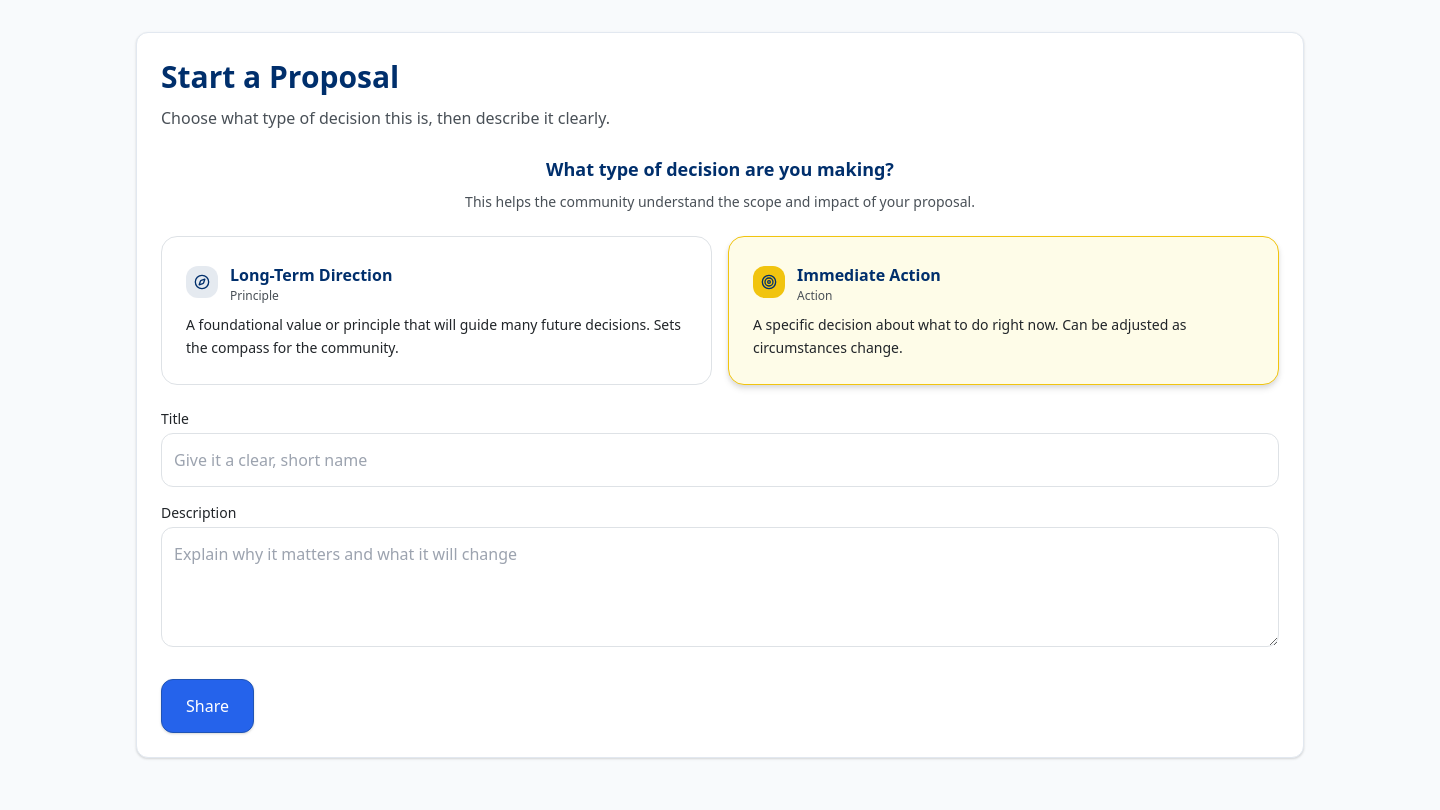
it: ProposalNew › enforces direction choice for Level A proposals
// Fill in title and description
Type "Test Proposal" into the field with placeholder "Give it a clear, short name" at (720, 460), box left=161, top=433, right=1279, bottom=487
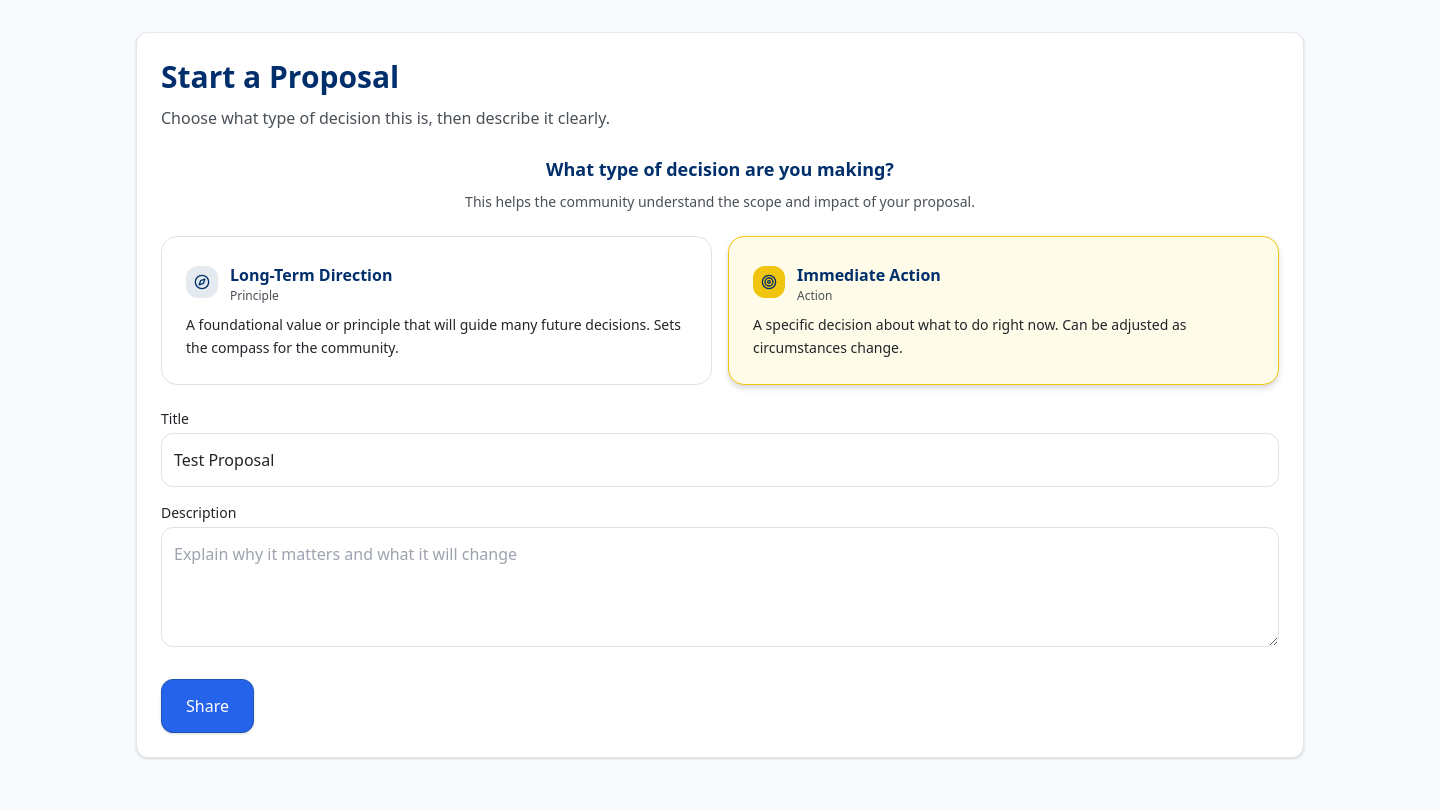
Type "Test description" into the text box with placeholder "Explain why it matters and what it will change" at (720, 588), box left=161, top=528, right=1279, bottom=648
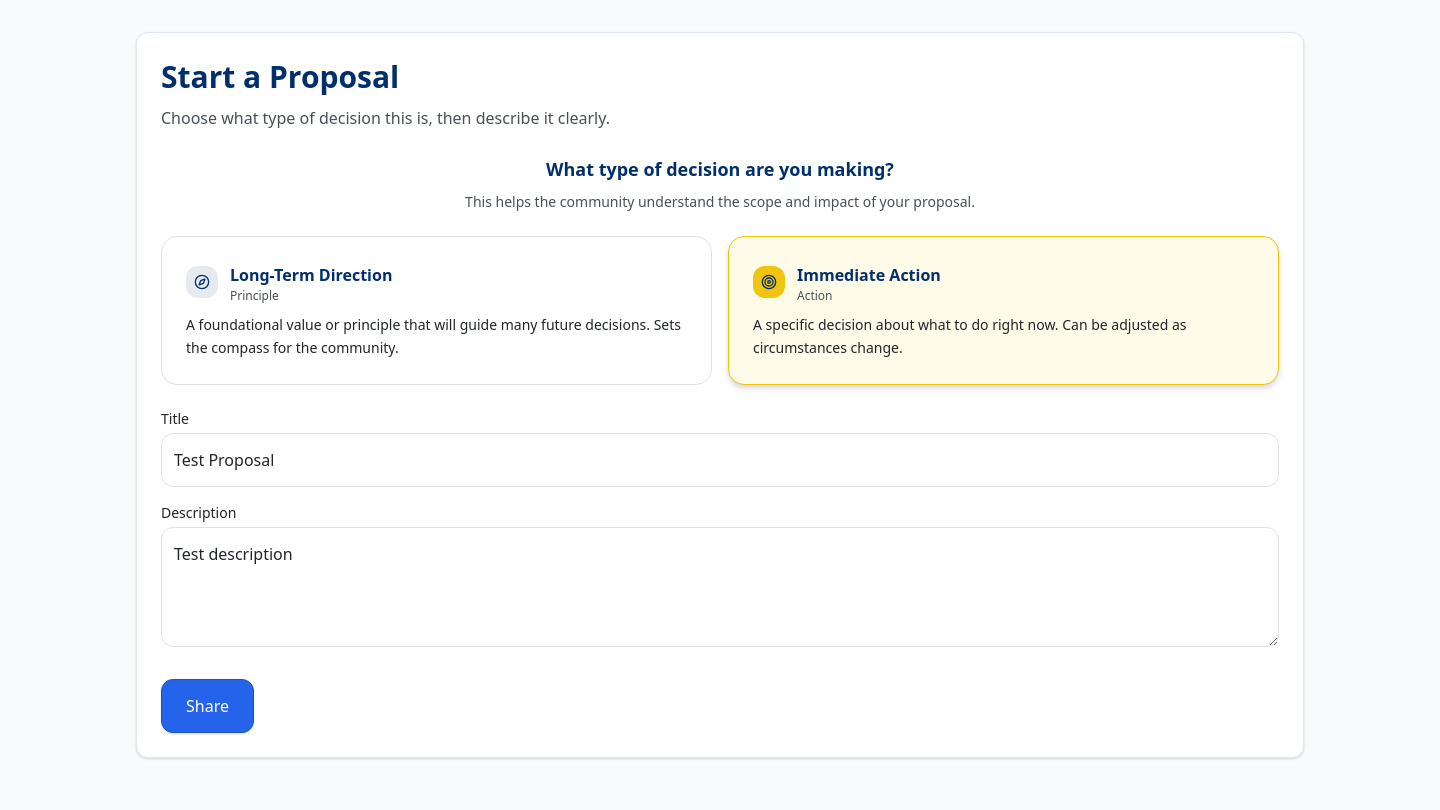
// Select Level A but don't choose direction
Click the text "Long-Term Direction" at (311, 275), box left=230, top=261, right=392, bottom=289
(page scrolled)
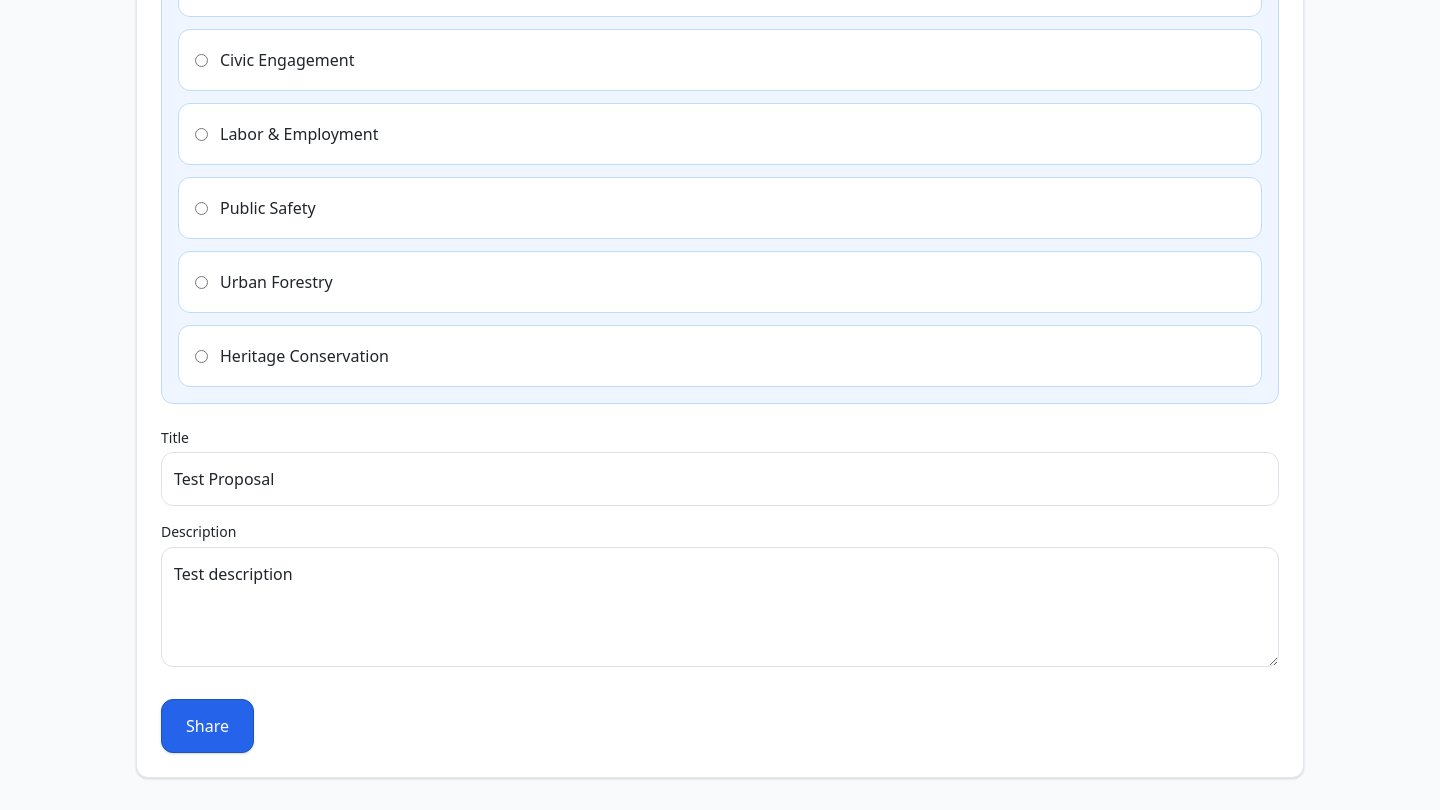
// Try to submit
Click the button "Share" at (208, 726), box left=161, top=699, right=254, bottom=753
(page scrolled)
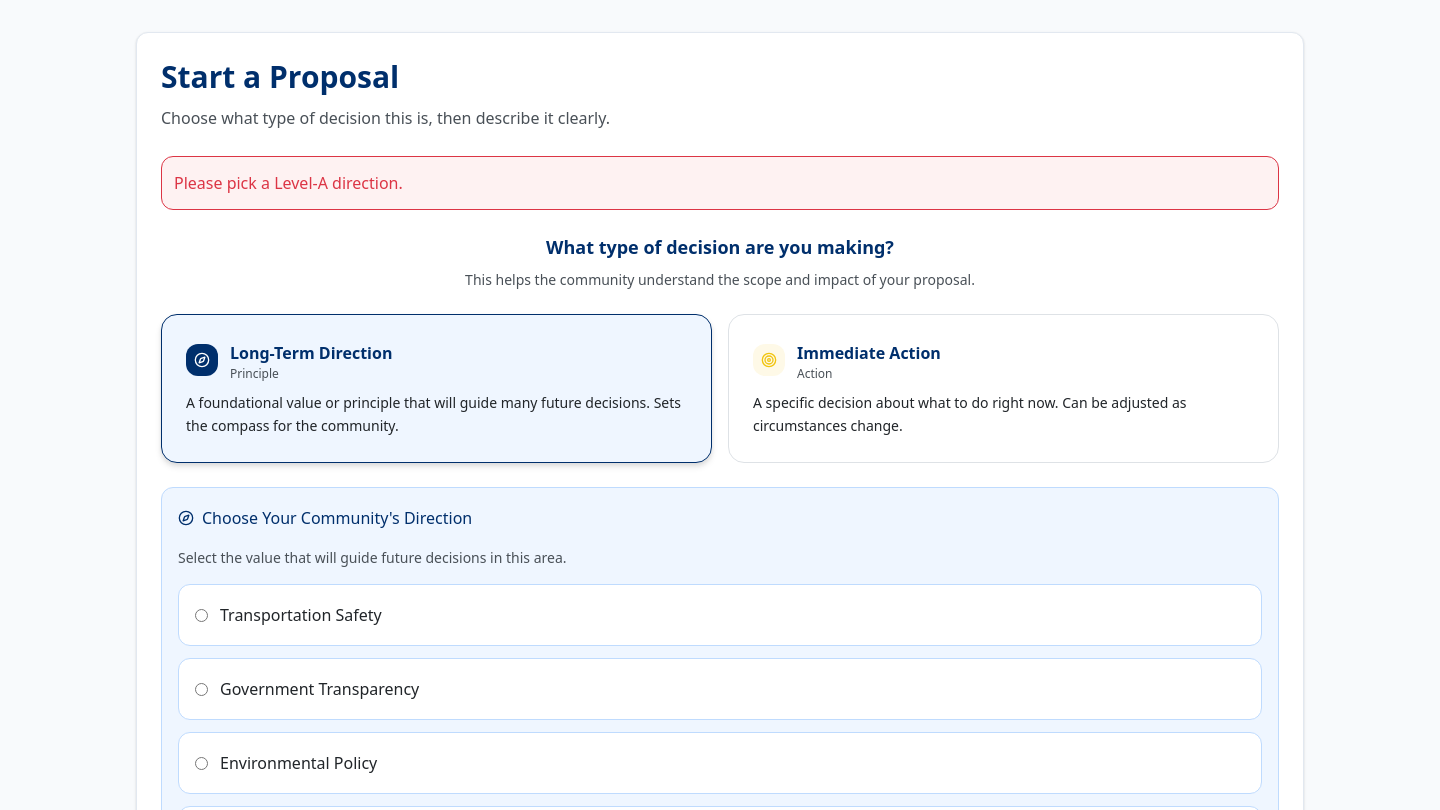
Check: the text "Please pick a Level-A direction." is shown, box left=161, top=156, right=1279, bottom=210
